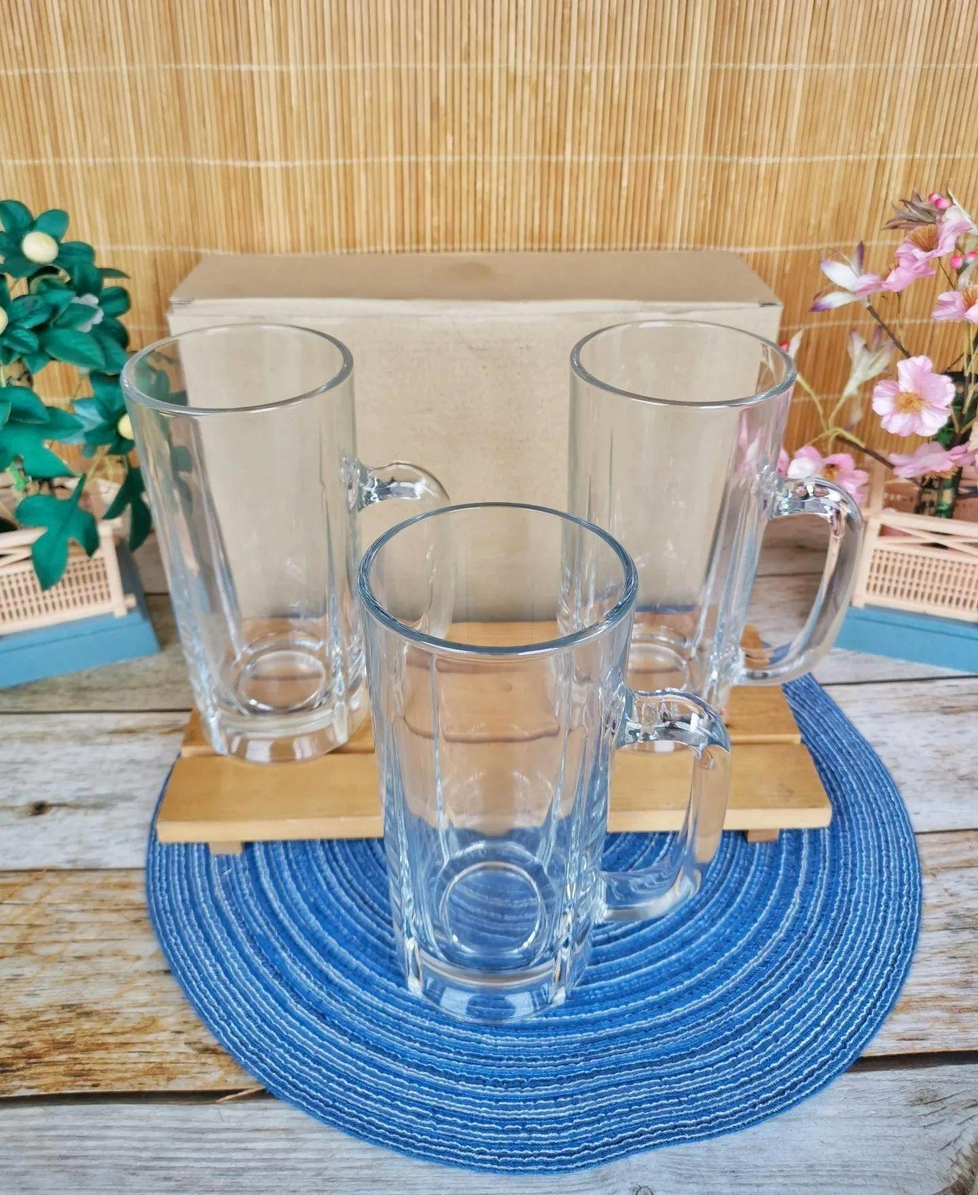glass-mug: (347, 492, 748, 1050), (111, 312, 464, 776), (541, 303, 880, 770)
